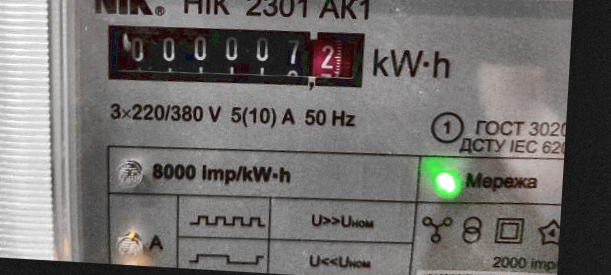0: (127, 34, 146, 62), (221, 34, 240, 62), (190, 33, 208, 62), (159, 34, 177, 62), (253, 35, 270, 64)
2: (318, 44, 335, 70)
7: (284, 36, 301, 66)
screen: (93, 11, 376, 100)
